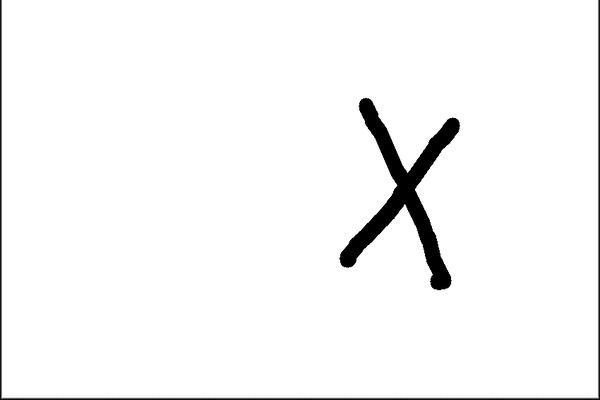X: (315, 75, 486, 346)
